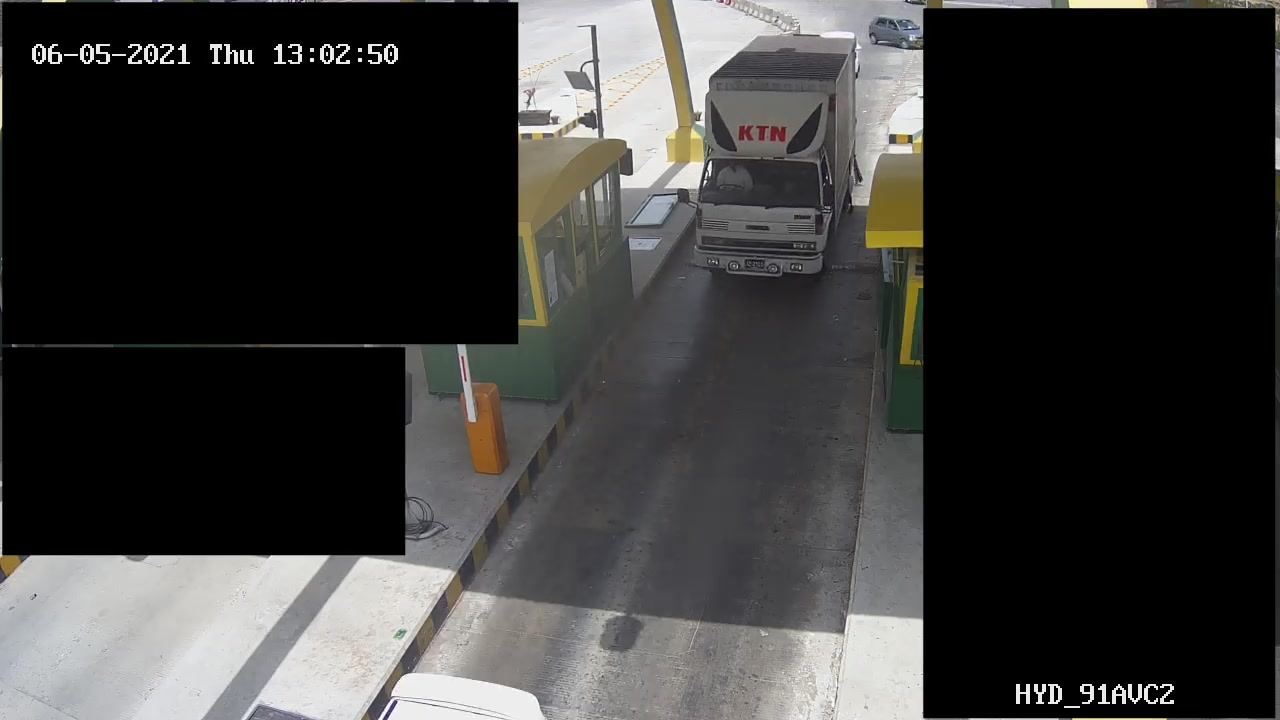F3: (688, 26, 865, 289)
